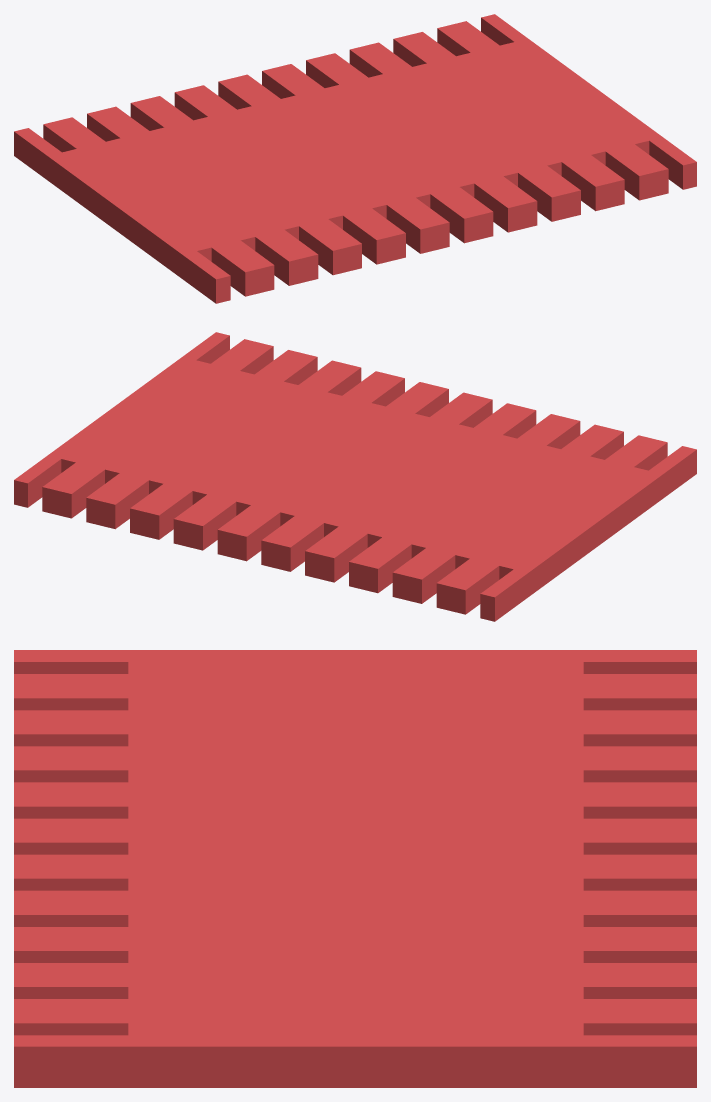
3 views of the same model, one above another, from view 1: azimuth 30°, elevation 25°; view 2: azimuth 150°, elevation 25°; view 3: azimuth 270°, elevation 25° (orthographic). The views are drawn at different scales.
Parts seen in each view (by area): view 1: Cube; view 2: Cube; view 3: Cube.
Part boxes in pixels (x1=…): Cube: x1=14, y1=14, x2=696, y2=303; Cube: x1=14, y1=332, x2=696, y2=621; Cube: x1=14, y1=650, x2=696, y2=1087.
Size of the model in its own units: 412 by 20 by 300.
